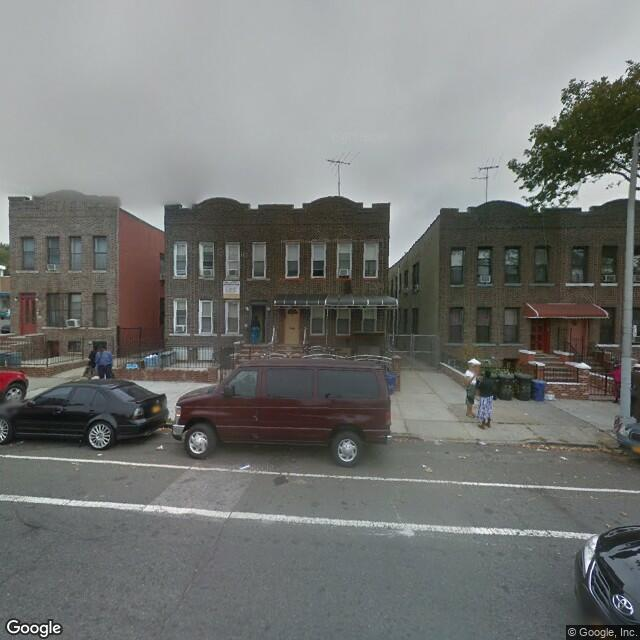litter: (422, 463, 433, 475), (479, 440, 491, 446), (562, 456, 569, 463), (240, 465, 252, 469), (537, 448, 546, 452), (98, 454, 104, 458), (158, 445, 165, 448), (524, 411, 531, 414)
